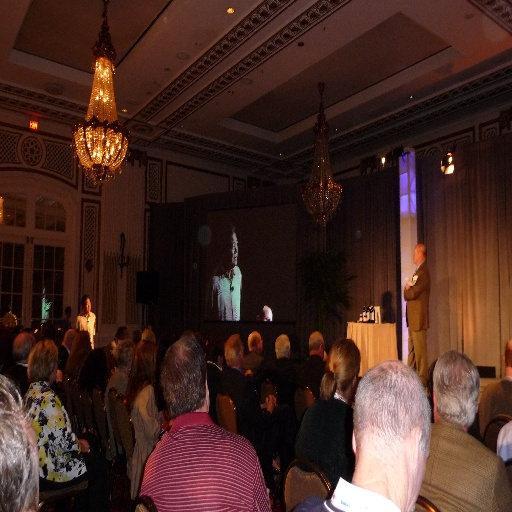hand: (266, 391, 277, 408), (78, 437, 90, 451), (403, 284, 410, 291)
